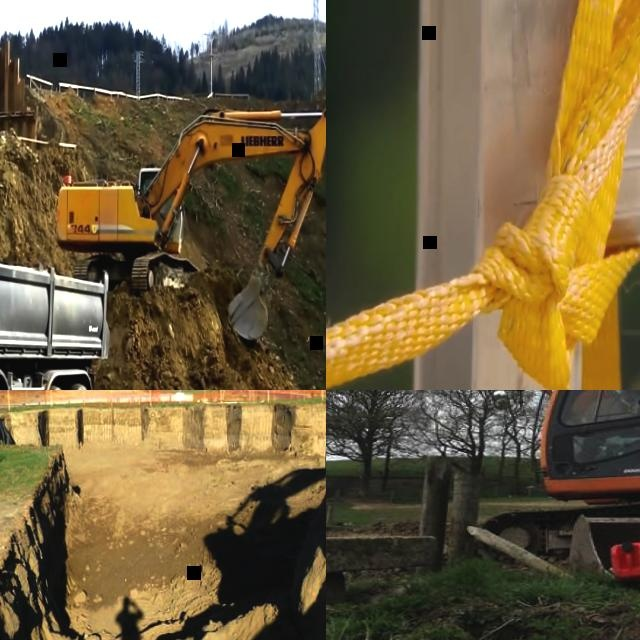Person: (574, 390, 640, 464)
machinery: (54, 102, 326, 345), (326, 390, 640, 587), (0, 228, 109, 390)
